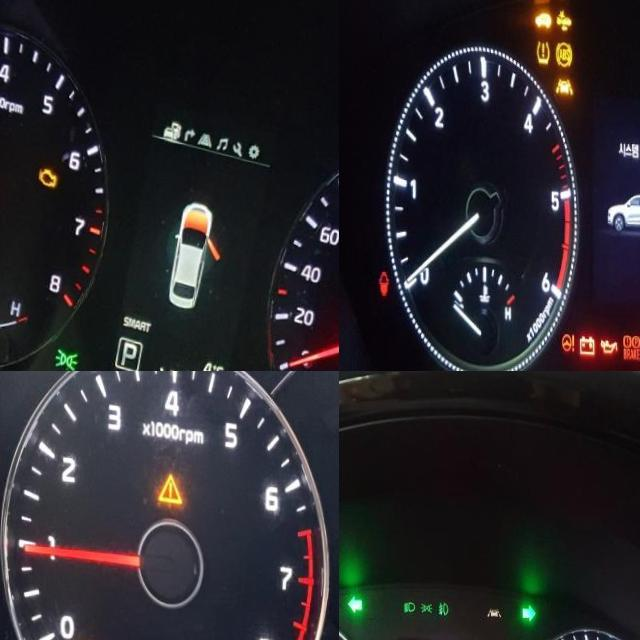Central Warning lamp: (156, 470, 182, 503)
FrontFogLight: (436, 598, 448, 612)
LaneCenteringOff: (552, 71, 573, 92), (486, 603, 499, 614)
Low beam: (402, 597, 414, 610)
SideLamp: (51, 344, 77, 371), (419, 598, 431, 610)
